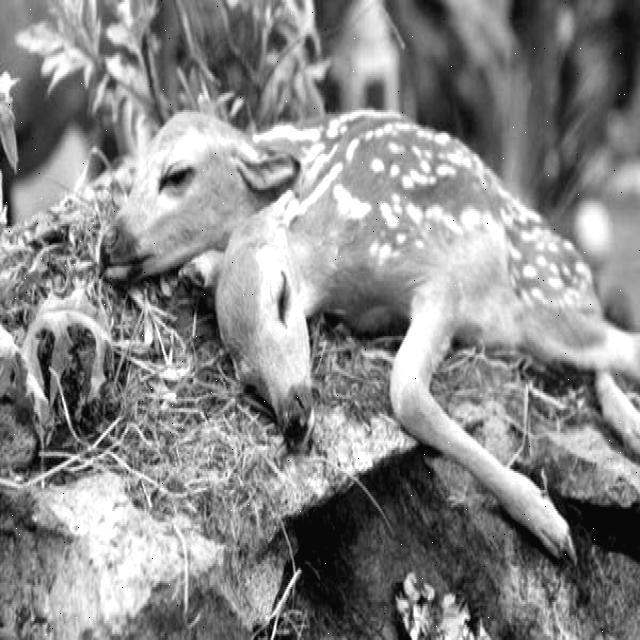deer: (89, 81, 291, 296), (216, 198, 334, 461)
